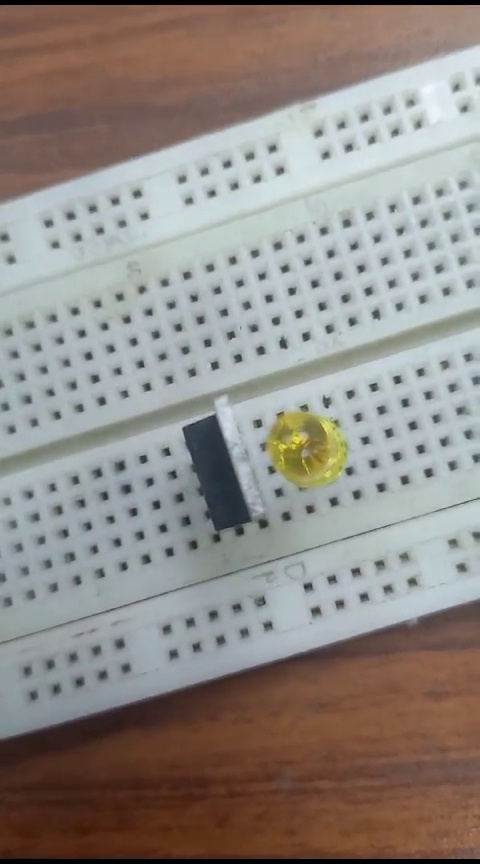LED: (271, 412, 342, 491)
voltage regulator: (164, 397, 267, 533)
